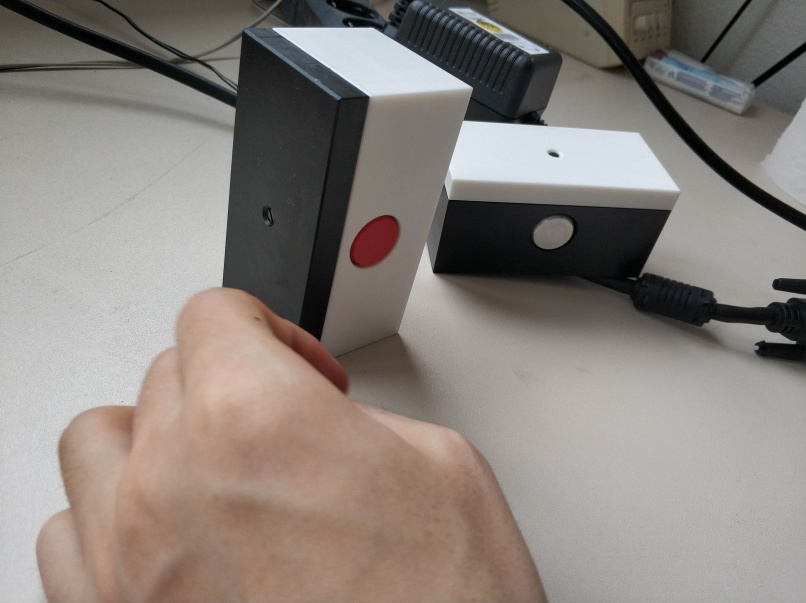black+white+red: (219, 25, 475, 359)
white+black+silver: (426, 119, 684, 282)
